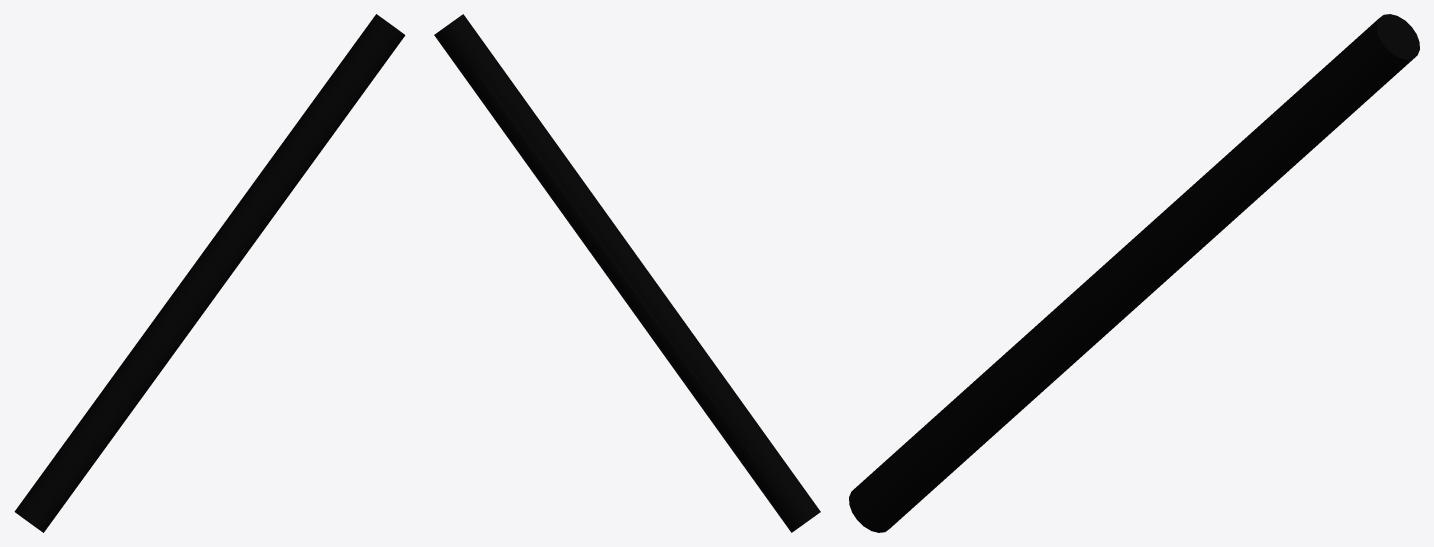
The model's file is zx200-bucket-cyl2.dae.
3 views of the same model, side by side, from view 1: azimuth 30°, elevation 25°; view 2: azimuth 150°, elevation 25°; view 3: azimuth 330°, elevation 25° (orthographic). The views are drawn at different scales.
Parts seen in each view (by area): view 1: arm-bac-cyl2.002; view 2: arm-bac-cyl2.002; view 3: arm-bac-cyl2.002.
Part boxes in pixels (left/top/right/bottom): arm-bac-cyl2.002: left=14, top=14, right=405, bottom=532; arm-bac-cyl2.002: left=434, top=14, right=820, bottom=532; arm-bac-cyl2.002: left=849, top=14, right=1419, bottom=532.
Size of the model in its own units: 0.7265 by 0.0647 by 0.7841.
Materials: 1 (1 with a texture image).
